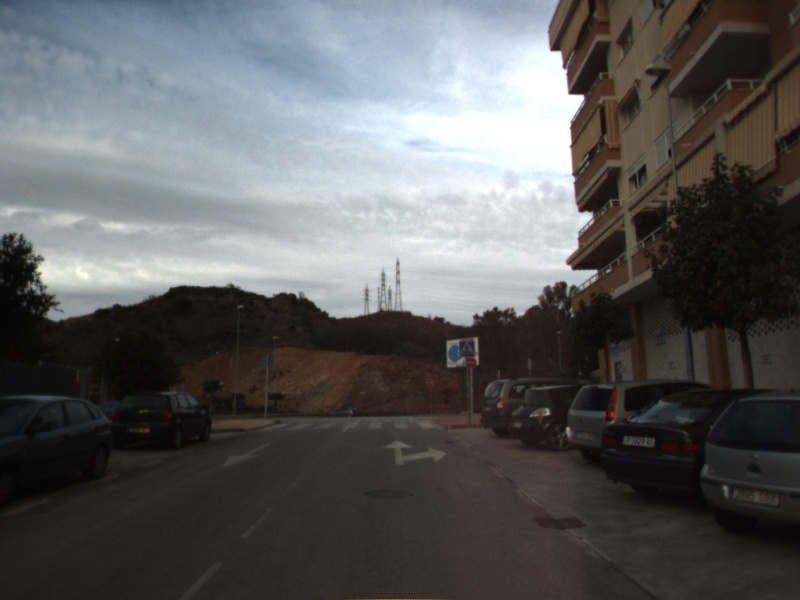STRAIGHT_RIGHT: (380, 438, 449, 467)
